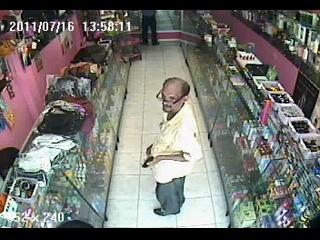Normal: (142, 77, 204, 216), (140, 10, 160, 46)
